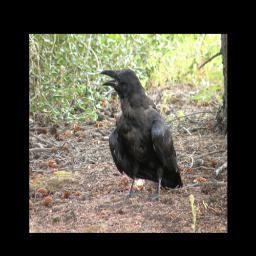Crow: (99, 67, 185, 204)
